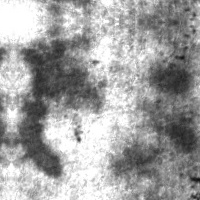patches: (14, 20, 70, 182), (40, 51, 102, 113), (105, 142, 165, 182), (149, 58, 195, 100), (160, 111, 199, 156)
